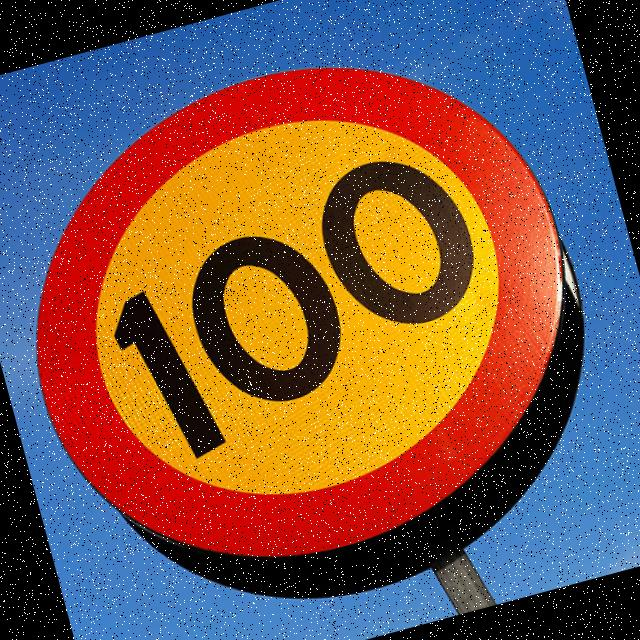speed_limit_100: (0, 2, 629, 617)
